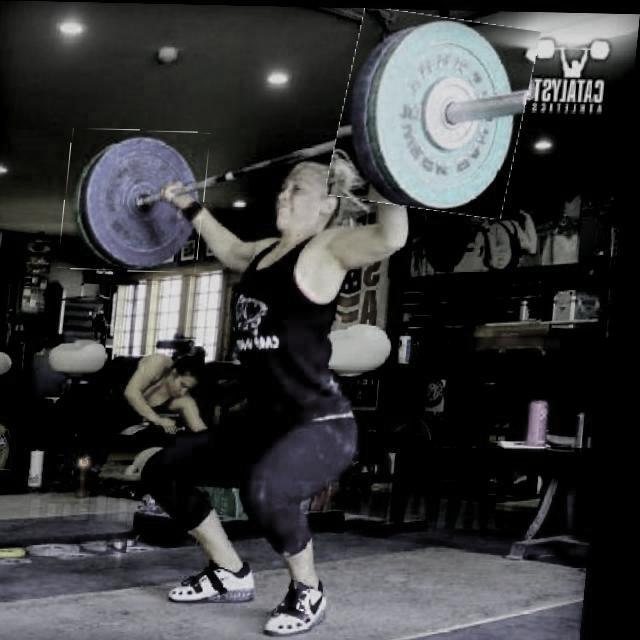barbell: (332, 10, 537, 213), (64, 128, 213, 272)
